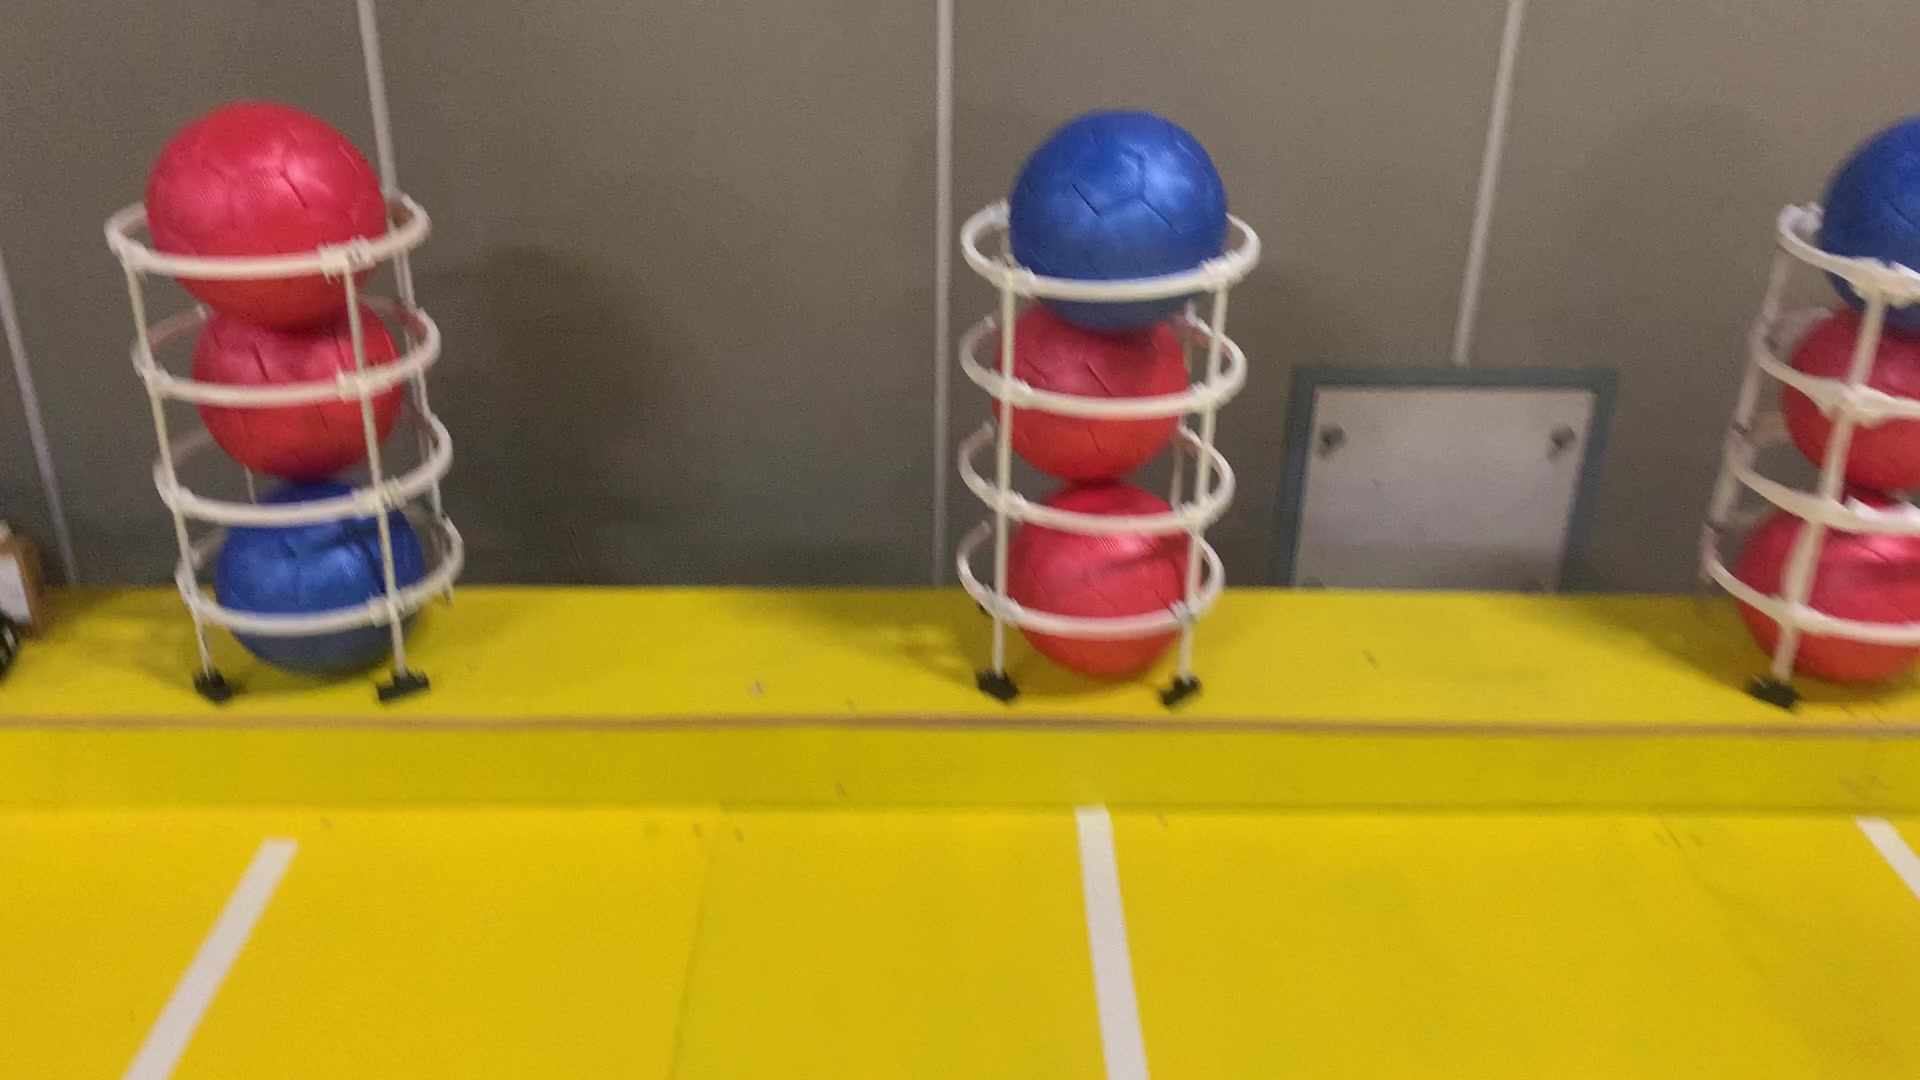blue: (1010, 112, 1236, 336), (216, 480, 439, 678), (1822, 104, 1920, 328)
red: (150, 107, 386, 330), (189, 289, 417, 480), (1004, 483, 1217, 680), (1745, 473, 1920, 686), (998, 289, 1189, 480), (1791, 294, 1920, 492)
